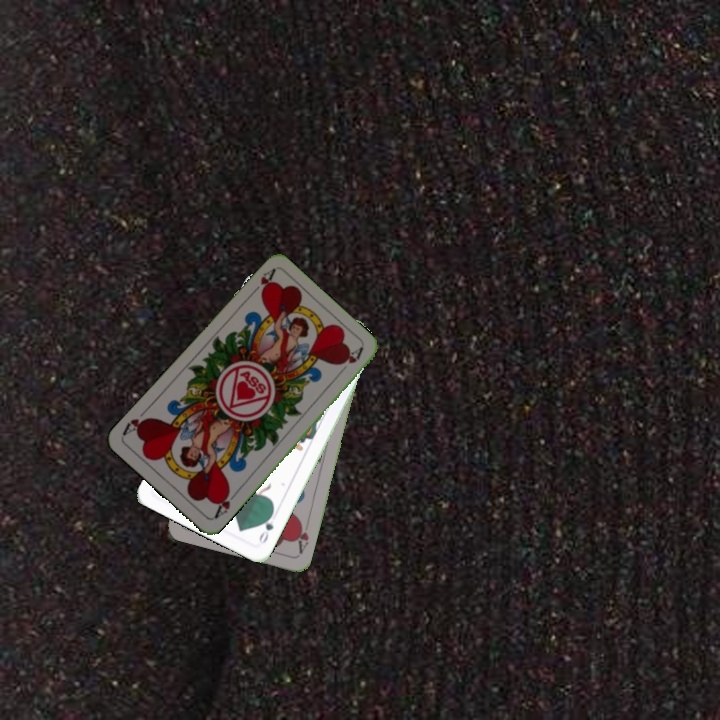GO: (255, 508, 276, 546)
HA: (245, 265, 278, 299), (210, 485, 240, 521), (292, 517, 311, 557)
